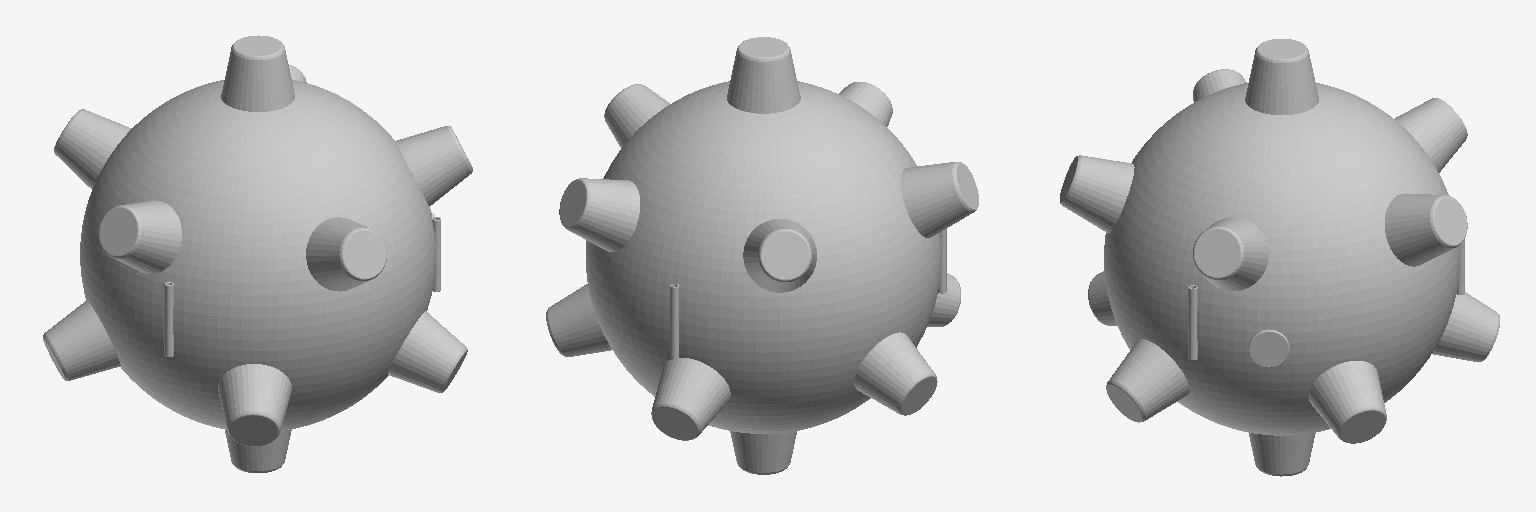
File: Brinquedo_3.obj
The picture shows the model from 3 angles: view 1: azimuth 30°, elevation 25°; view 2: azimuth 150°, elevation 25°; view 3: azimuth 270°, elevation 25°; orthographic projection.
Visible parts, largest first — view 1: bumble_ball:Mesh; view 2: bumble_ball:Mesh; view 3: bumble_ball:Mesh.
Boxes of the visible parts, <box> form: bumble_ball:Mesh: <box>43,35,472,472</box>; bumble_ball:Mesh: <box>546,37,978,474</box>; bumble_ball:Mesh: <box>1060,39,1499,476</box>.
Size of the model in its own units: 0.3557 by 0.3817 by 0.3655.